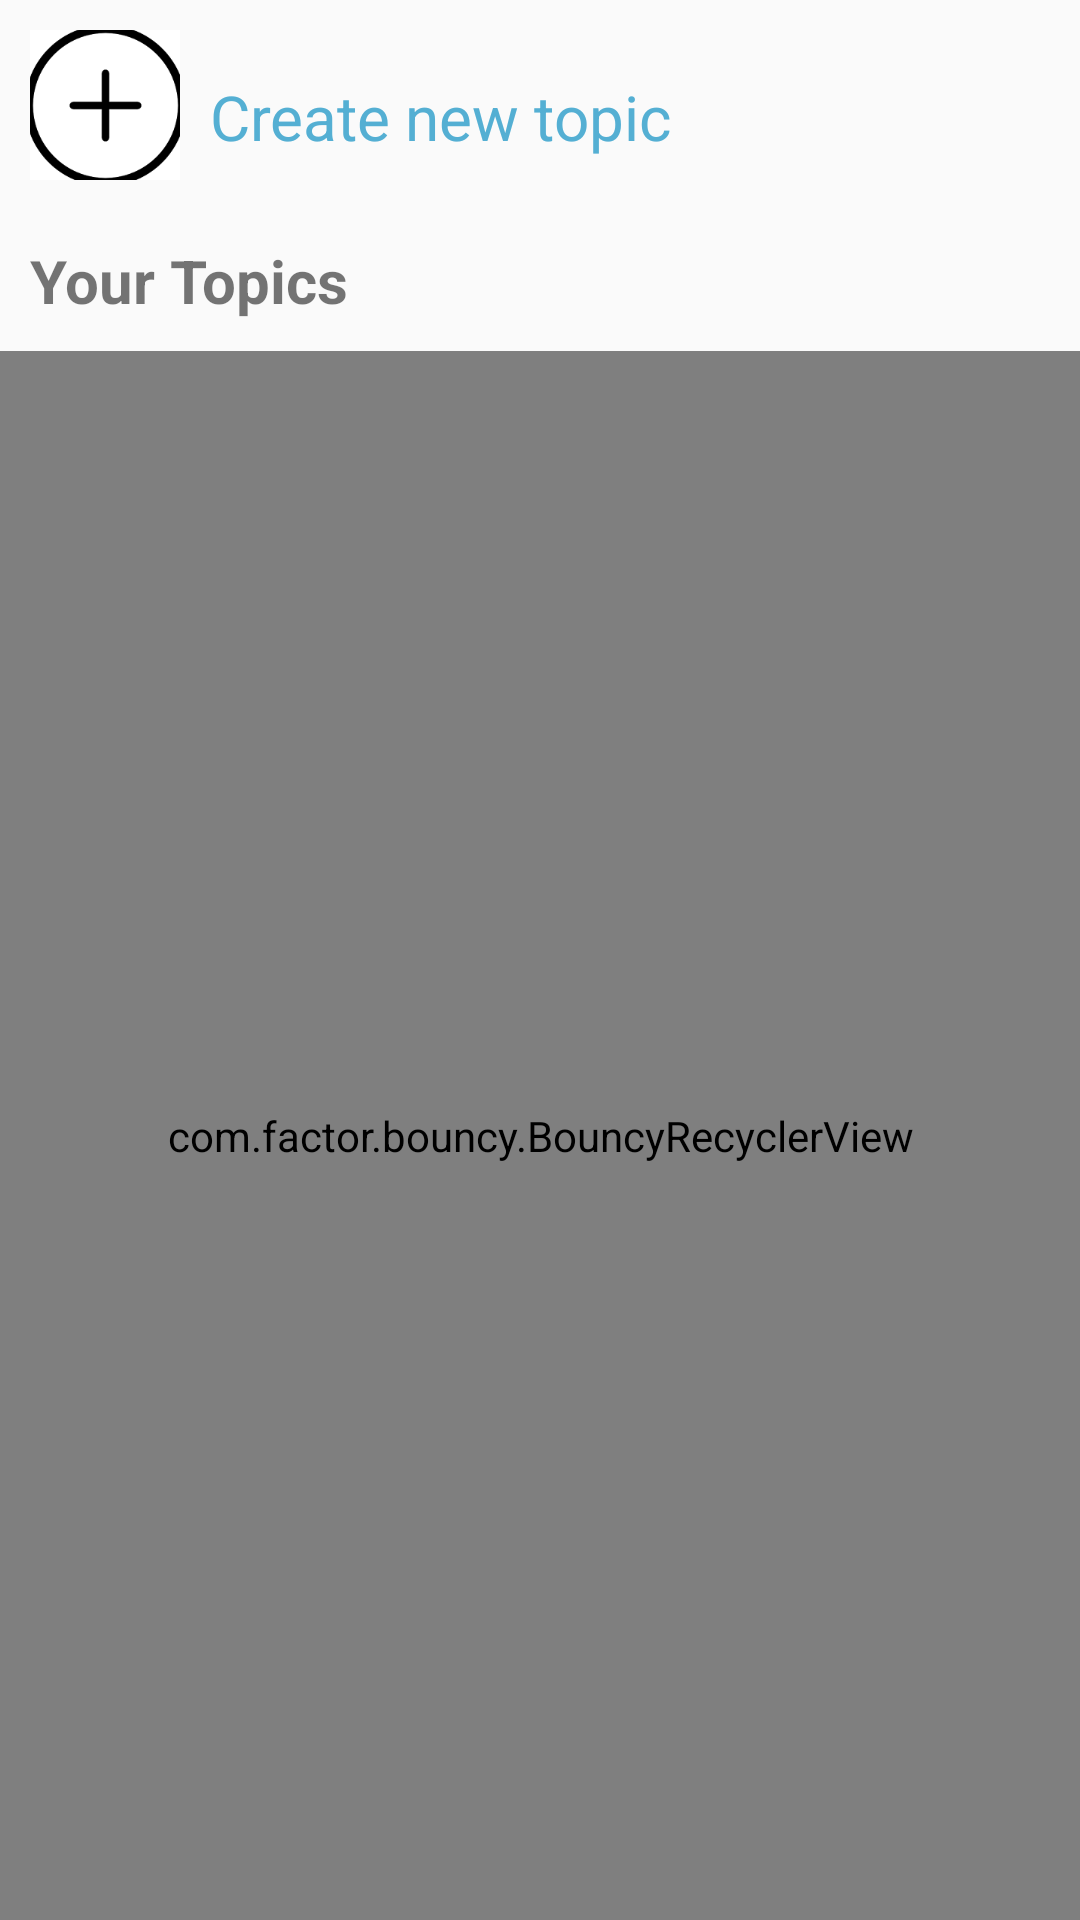

Screen size 1080px×1920px. Icon name, then its box in pixels as bbox=(x1, y1, x2, y2):
plustopic: bbox=(30, 30, 180, 180)
